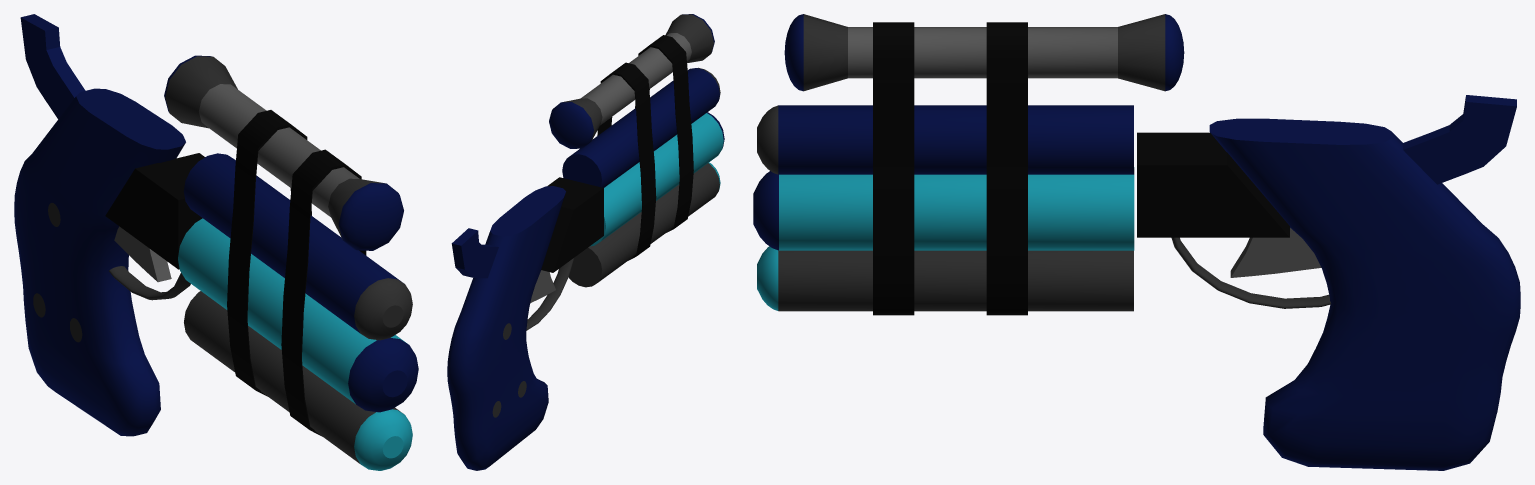
The model's file is arme3.FBX.
3 renders of one model, left to right at view 1: azimuth 30°, elevation 25°; view 2: azimuth 150°, elevation 25°; view 3: azimuth 270°, elevation 25°, orthographic. The views are drawn at different scales.
Visible parts, largest first — view 1: BoîteChanfrein002, Cylindre001, Capsule001, Tube001, Tube002, Boîte001, Tore001, Cercle004; view 2: BoîteChanfrein002, Cylindre001, Capsule001, Boîte001, Tube002, Tube001, Tore001, Cercle004; view 3: BoîteChanfrein002, Cylindre001, Capsule001, Boîte001, Tube001, Tube002, Tore001.
Part boxes in pixels (<box>): BoîteChanfrein002: <box>14,14,185,436</box>; Cylindre001: <box>178,153,418,470</box>; Capsule001: <box>164,55,403,250</box>; Tube001: <box>281,149,366,436</box>; Tube002: <box>227,110,311,396</box>; Boîte001: <box>105,153,204,269</box>; Tore001: <box>109,266,190,300</box>; Cercle004: <box>33,203,82,342</box>; BoîteChanfrein002: <box>447,186,565,470</box>; Cylindre001: <box>562,67,724,287</box>; Capsule001: <box>549,14,714,148</box>; Boîte001: <box>541,177,603,272</box>; Tube002: <box>597,62,656,260</box>; Tube001: <box>635,35,693,232</box>; Tore001: <box>526,258,573,330</box>; Cercle004: <box>492,323,526,417</box>; BoîteChanfrein002: <box>1209,95,1520,470</box>; Cylindre001: <box>753,105,1134,311</box>; Capsule001: <box>784,14,1184,91</box>; Boîte001: <box>1137,132,1289,237</box>; Tube001: <box>873,22,914,315</box>; Tube002: <box>986,22,1027,315</box>; Tore001: <box>1171,237,1331,308</box>.
Bounding box in the file's own units: 6.12 × 34.54 × 53.31.
